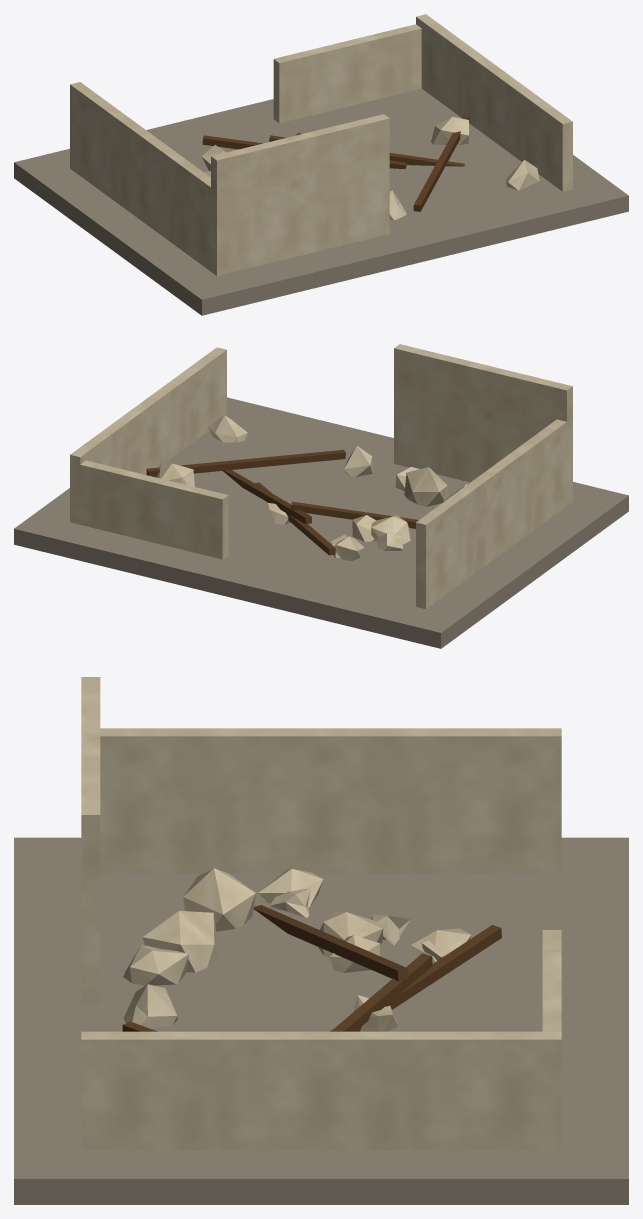
The model's file is house_ruined.fbx.
3 views of the same model, one above another, from view 1: azimuth 30°, elevation 25°; view 2: azimuth 150°, elevation 25°; view 3: azimuth 270°, elevation 25° (orthographic). The views are drawn at different scales.
Visible parts, largest first — view 1: House; view 2: House; view 3: House.
Boxes of the visible parts, <box> form: House: <box>14,14,628,315</box>; House: <box>14,344,628,648</box>; House: <box>14,677,628,1204</box>.
Bounding box in the file's own units: 8.4 × 2.6 × 6.4.
